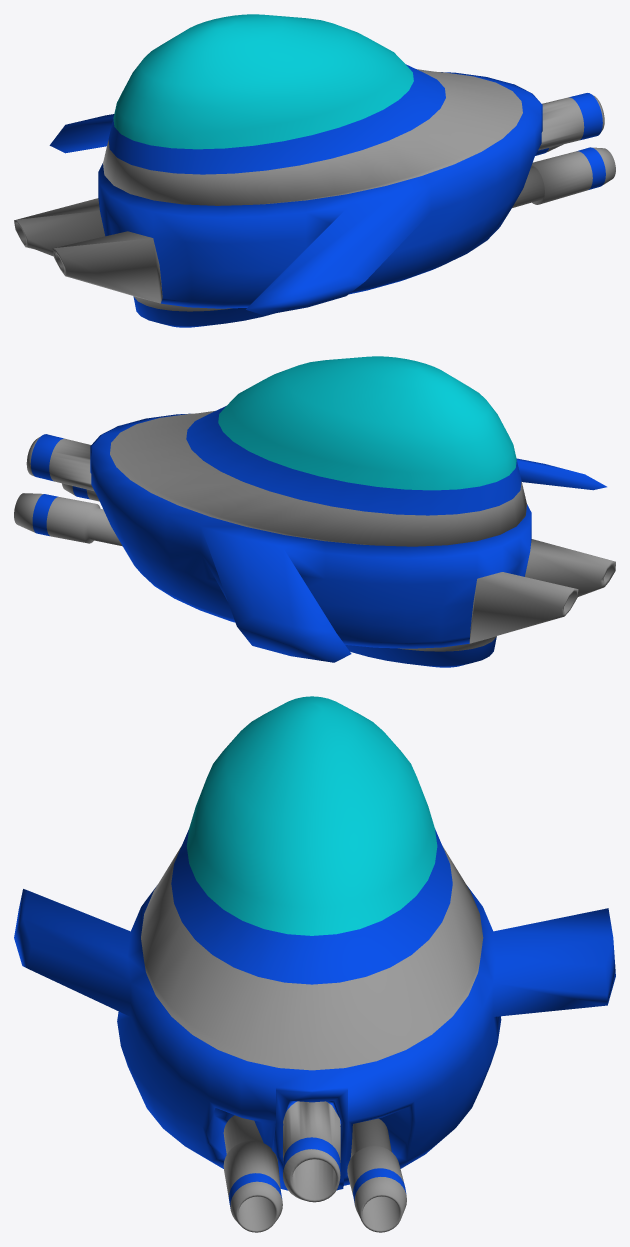
File: HighDPS.fbx
The picture shows the model from 3 angles, top to bottom: view 1: azimuth 30°, elevation 25°; view 2: azimuth 150°, elevation 25°; view 3: azimuth 270°, elevation 25°; orthographic projection. The views are drawn at different scales.
Parts seen in each view (by area): view 1: Cylinder; view 2: Cylinder; view 3: Cylinder.
Part boxes in pixels (bbox=[...]): Cylinder: bbox=[14, 14, 615, 327]; Cylinder: bbox=[14, 356, 615, 667]; Cylinder: bbox=[14, 696, 615, 1232].
Bounding box in the file's own units: 1596 × 776 × 1150.
